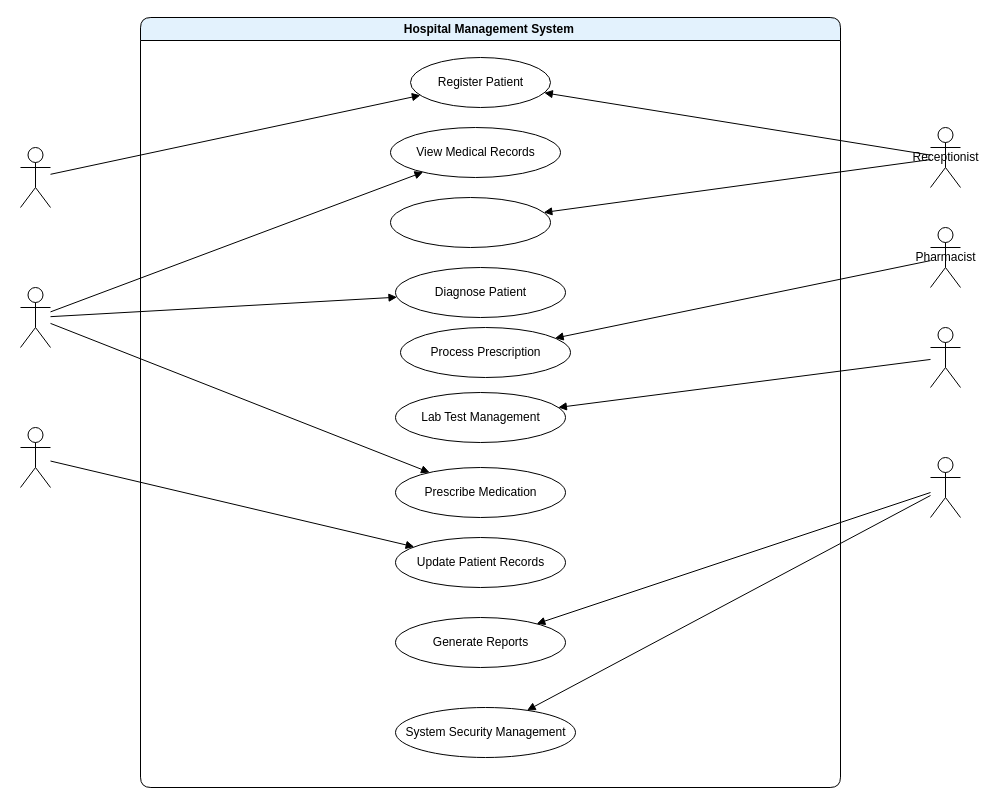
Some shapes in this 996 by 805 pixel diagram are drawn without their labels. The shapes that lost their labels are listed below. From the top down, each one's centre as x and y in pixels, then its label:
[35,177]: Patient
[470,222]: Manage Appointments
[35,317]: Doctor
[945,357]: Lab Tech
[35,457]: Nurse
[945,487]: Admin/IT
